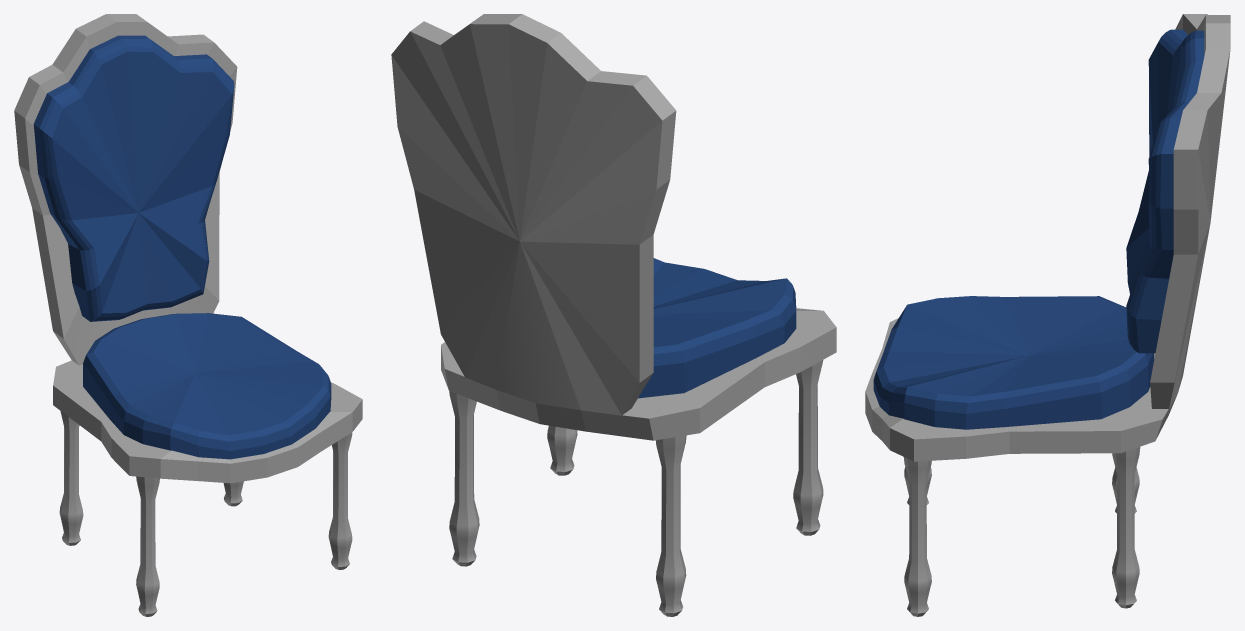
The model's file is dining_chair.fbx.
3 views of the same model, side by side, from view 1: azimuth 30°, elevation 25°; view 2: azimuth 150°, elevation 25°; view 3: azimuth 270°, elevation 25° (orthographic). The views are drawn at different scales.
Visible parts, largest first — view 1: cushion, wood; view 2: wood, cushion; view 3: cushion, wood.
Boxes of the visible parts, bbox=[...] form: cushion: bbox=[33, 35, 331, 459]; wood: bbox=[14, 14, 362, 616]; wood: bbox=[391, 14, 836, 616]; cushion: bbox=[638, 258, 796, 398]; cushion: bbox=[873, 29, 1204, 429]; wood: bbox=[865, 14, 1230, 616].
Size of the model in its own units: 0.9089 by 1.77 by 1.09.
